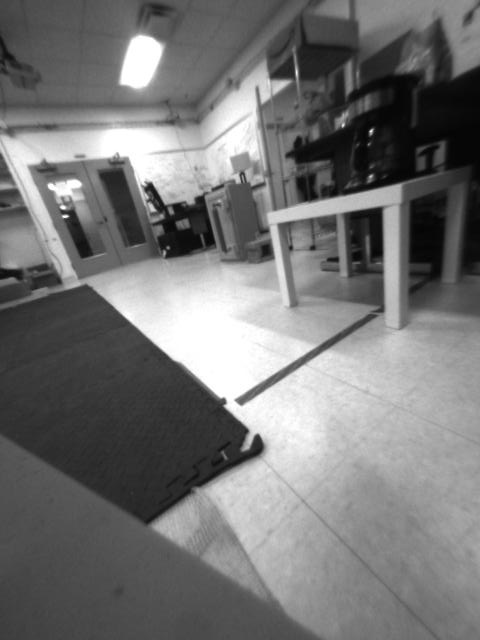coffee_pot: (338, 71, 417, 187)
